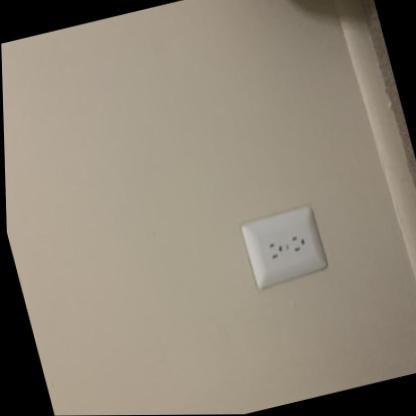OUTLET: (239, 202, 330, 291)
